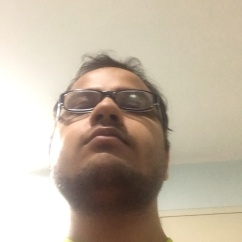glasses: (56, 88, 166, 112)
